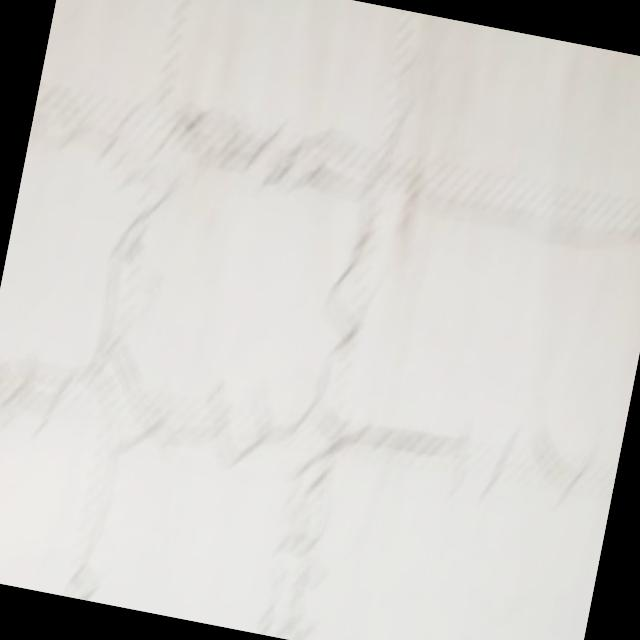crack: (0, 311, 610, 554), (25, 62, 640, 279), (248, 38, 437, 640), (44, 162, 180, 600)
